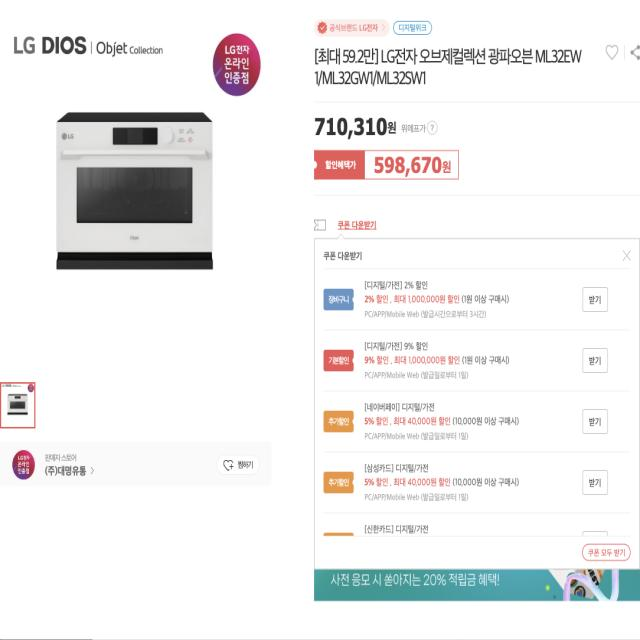product_discount_price: (368, 152, 454, 178)
product_name: (314, 44, 588, 90)
product_original_price: (312, 111, 398, 142)
